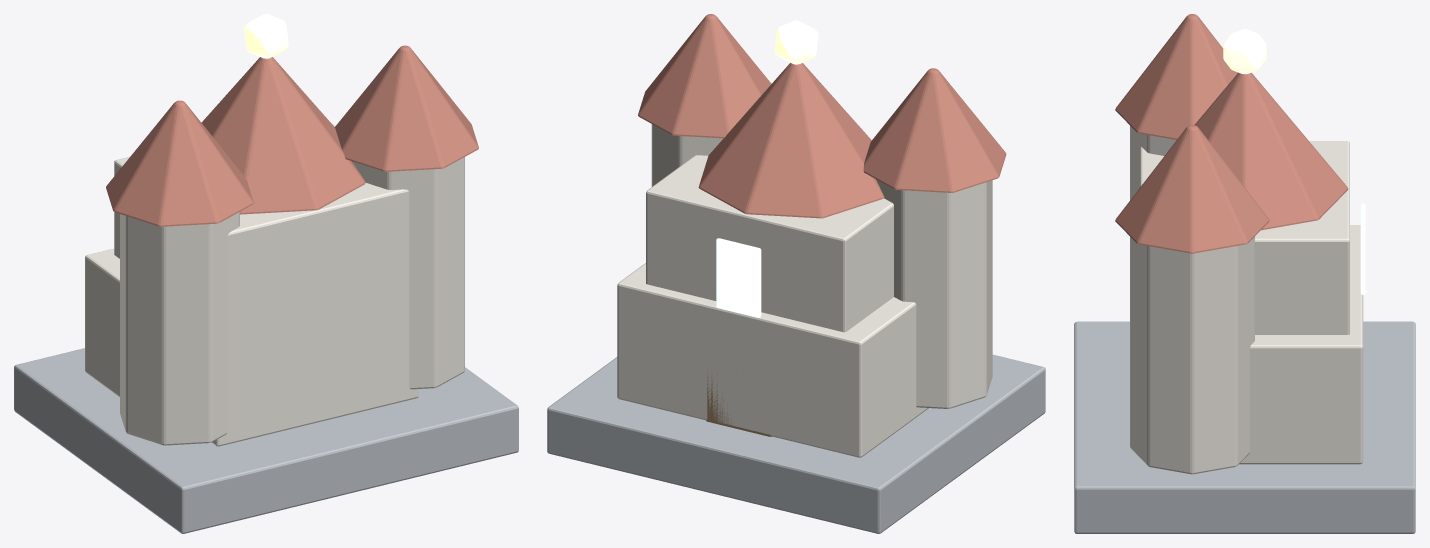
The model's file is castle.glb.
The picture shows the model from 3 angles, left to right: view 1: azimuth 30°, elevation 25°; view 2: azimuth 150°, elevation 25°; view 3: azimuth 270°, elevation 25°; orthographic projection. The views are drawn at different scales.
Visible parts, largest first — view 1: castle; view 2: castle; view 3: castle.
Boxes of the visible parts, <box> form: castle: <box>14,14,518,533</box>; castle: <box>547,14,1045,533</box>; castle: <box>1074,14,1415,533</box>.
Bounding box in the file's own units: 1.59 × 1.77 × 1.3.
